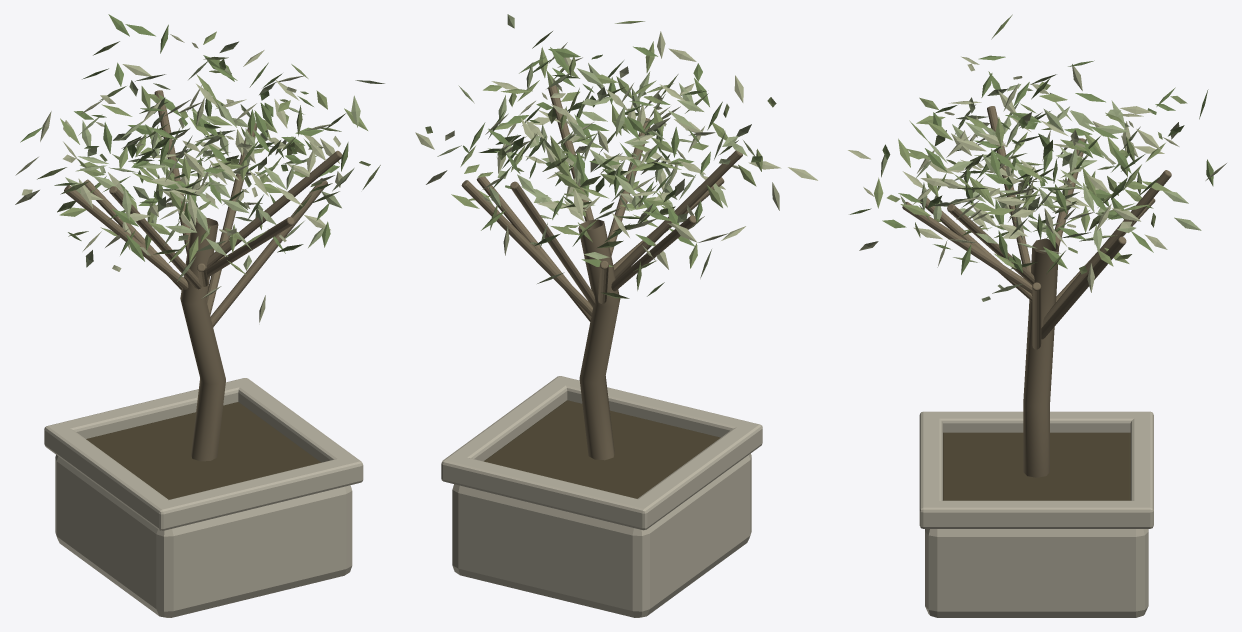
The model's file is CityOlivePlanter.glb.
3 views of the same model, side by side, from view 1: azimuth 30°, elevation 25°; view 2: azimuth 150°, elevation 25°; view 3: azimuth 270°, elevation 25° (orthographic).
Visible parts, largest first — view 1: Stone planter, Dark planting soil, Planter rim.002, Twisting olive trunk, Planter rim, Planter rim.003, Planter rim.001, Olive branch, Olive branch.008, Olive branch.004, Olive branch.005, Olive branch.001 (+3 smaller); view 2: Stone planter, Dark planting soil, Twisting olive trunk, Planter rim.003, Planter rim, Planter rim.001, Planter rim.002, Olive branch.001, Olive branch.005, Olive branch.002, Olive branch, Olive branch.004 (+2 smaller); view 3: Stone planter, Dark planting soil, Planter rim.001, Twisting olive trunk, Planter rim, Planter rim.003, Planter rim.002, Olive branch.002, Olive branch.007, Olive branch.001, Olive branch.008, Olive branch.005 (+2 smaller).
Boxes of the visible parts, box(x1,y1,x2,y2) form: Stone planter: box(55, 455, 352, 617); Dark planting soil: box(86, 402, 320, 499); Planter rim.002: box(151, 459, 363, 530); Twisting olive trunk: box(180, 217, 225, 461); Planter rim: box(44, 425, 177, 530); Planter rim.003: box(46, 378, 248, 452); Planter rim.001: box(237, 378, 362, 485); Olive branch: box(210, 178, 327, 327); Olive branch.008: box(206, 150, 341, 267); Olive branch.004: box(64, 185, 188, 289); Olive branch.005: box(109, 186, 206, 291); Olive branch.001: box(206, 123, 256, 315); Stone planter: box(452, 453, 751, 617); Dark planting soil: box(484, 400, 720, 498); Twisting olive trunk: box(578, 219, 620, 460); Planter rim.003: box(441, 454, 654, 529); Planter rim: box(628, 421, 762, 530); Planter rim.001: box(442, 376, 573, 483); Planter rim.002: box(551, 376, 761, 450); Olive branch.001: box(461, 180, 592, 316); Olive branch.005: box(614, 150, 742, 279); Olive branch.002: box(510, 181, 595, 307); Olive branch: box(476, 176, 591, 321); Olive branch.004: box(611, 215, 696, 291); Stone planter: box(925, 529, 1148, 617); Dark planting soil: box(943, 432, 1130, 500); Planter rim.001: box(919, 500, 1153, 528); Twisting olive trunk: box(1023, 238, 1058, 477); Planter rim: box(919, 411, 1153, 432); Planter rim.003: box(1130, 412, 1153, 526); Planter rim.002: box(919, 411, 942, 528); Olive branch.002: box(1043, 170, 1171, 325); Olive branch.007: box(902, 202, 1032, 293); Olive branch.001: box(1041, 236, 1126, 339); Olive branch.008: box(947, 204, 1034, 285); Olive branch.005: box(987, 106, 1031, 272).
Size of the model in its own units: 2.26 by 3.06 by 2.13.
